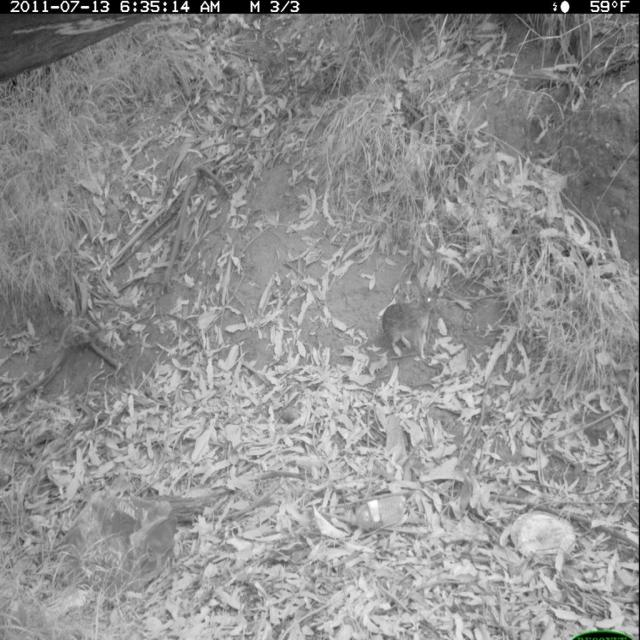rabbit: (377, 271, 443, 365)
